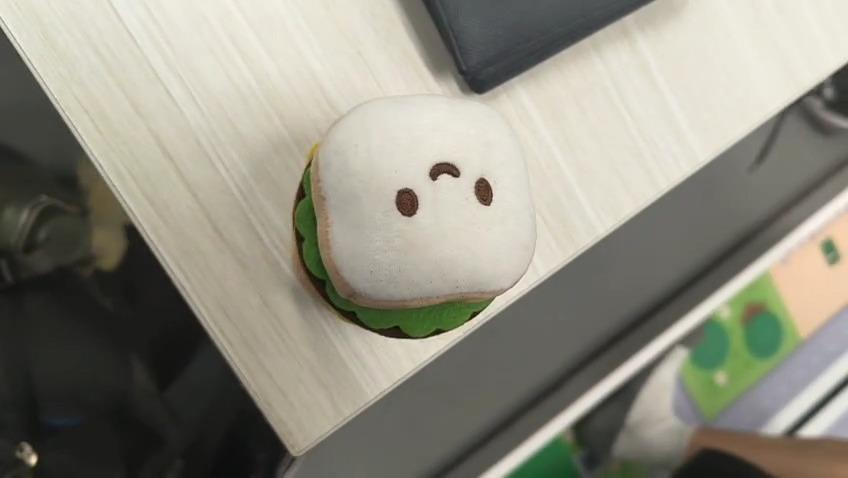objects: (295, 90, 539, 343)
